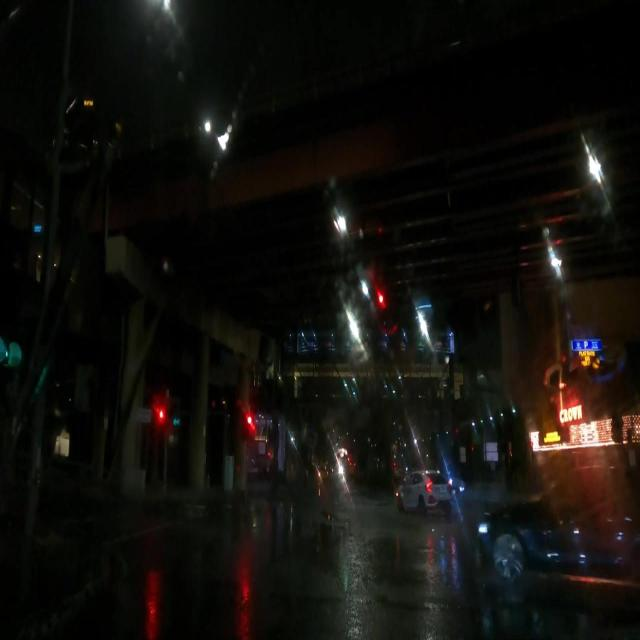Car: (482, 464, 633, 591), (394, 466, 453, 518)
